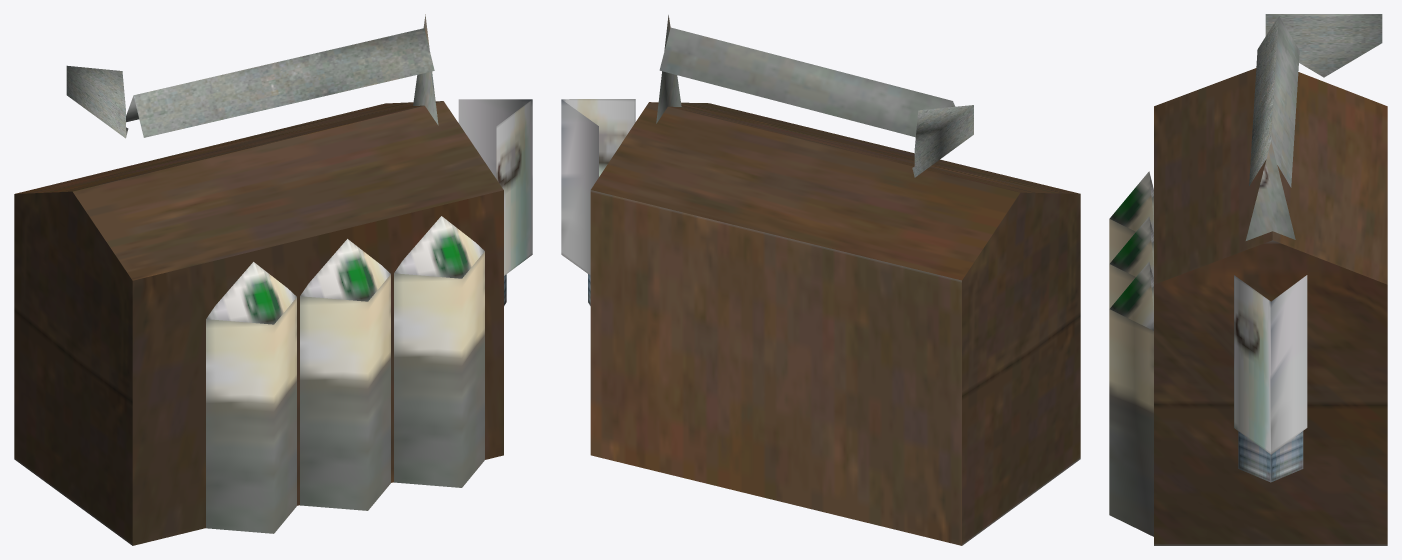
Rendered from eqp_tailor_clothing_dye_kit_s1_l2.fbx.
3 renders of one model, left to right at view 1: azimuth 30°, elevation 25°; view 2: azimuth 150°, elevation 25°; view 3: azimuth 270°, elevation 25°, orthographic.
Parts seen in each view (by area): view 1: mesh_node; view 2: mesh_node; view 3: mesh_node.
Part boxes in pixels (<box>): mesh_node: <box>14,14,532,545</box>; mesh_node: <box>561,15,1080,545</box>; mesh_node: <box>1109,14,1387,545</box>.
Size of the model in its own units: 0.4629 by 0.3876 by 0.2463.
